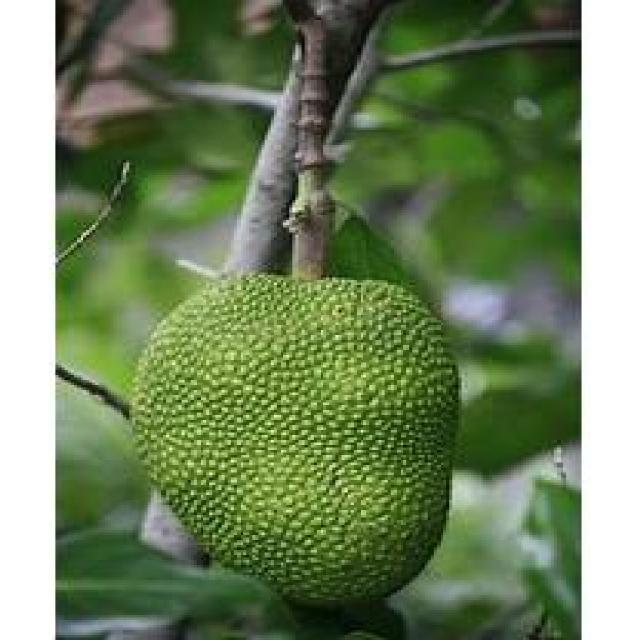fruit: (126, 162, 477, 538)
